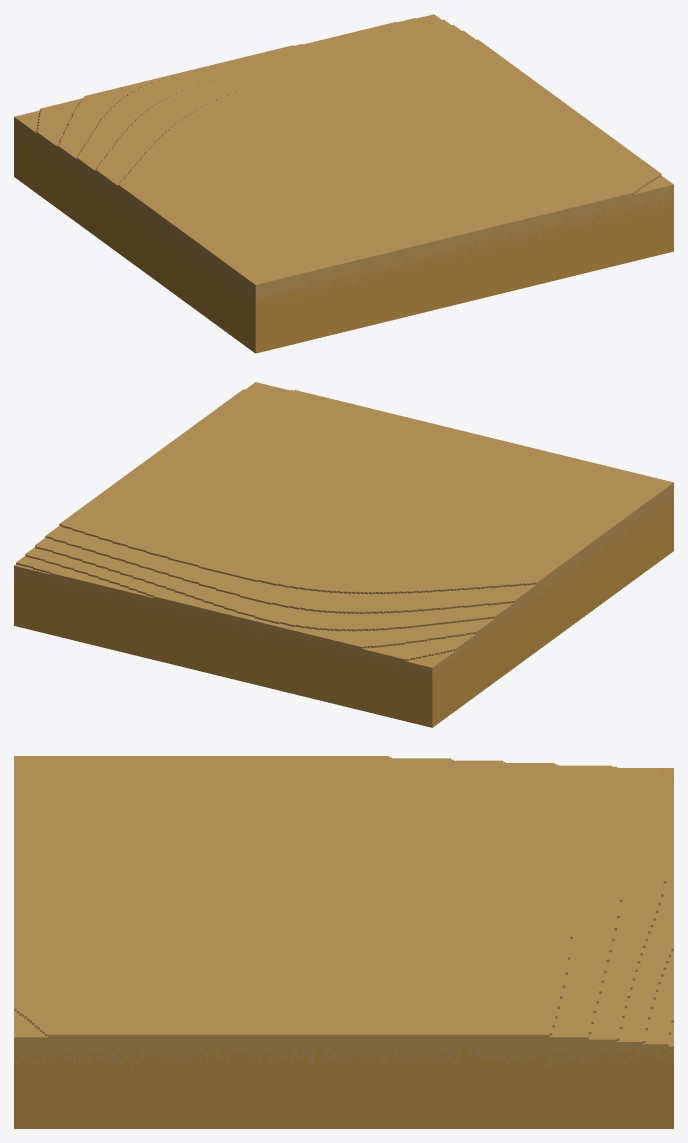
Rendered from Marte-8.obj.
3 renders of one model, top to bottom at view 1: azimuth 30°, elevation 25°; view 2: azimuth 150°, elevation 25°; view 3: azimuth 270°, elevation 25°, orthographic. The views are drawn at different scales.
Size of the model in its own units: 25.5 by 4 by 25.5.
Materials: 1 (1 with a texture image).
